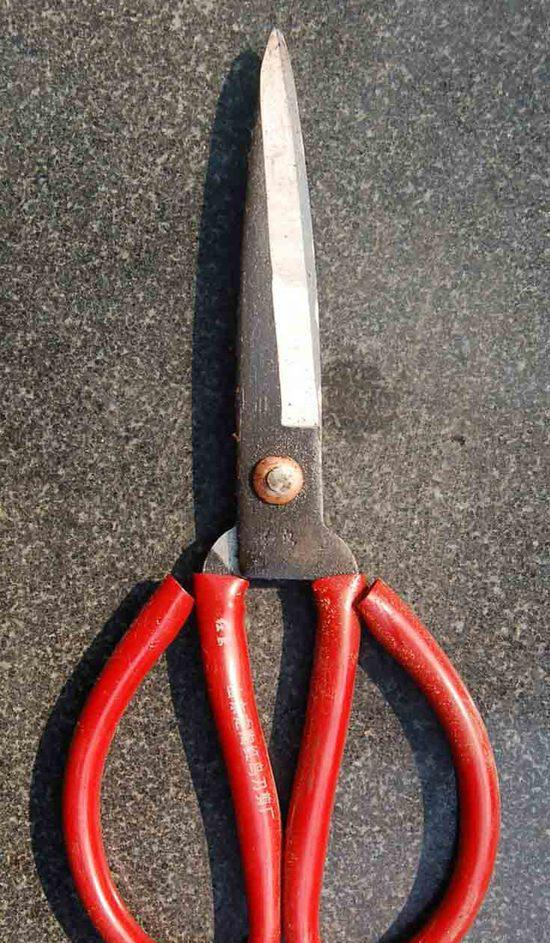scissor: (111, 28, 511, 943)
